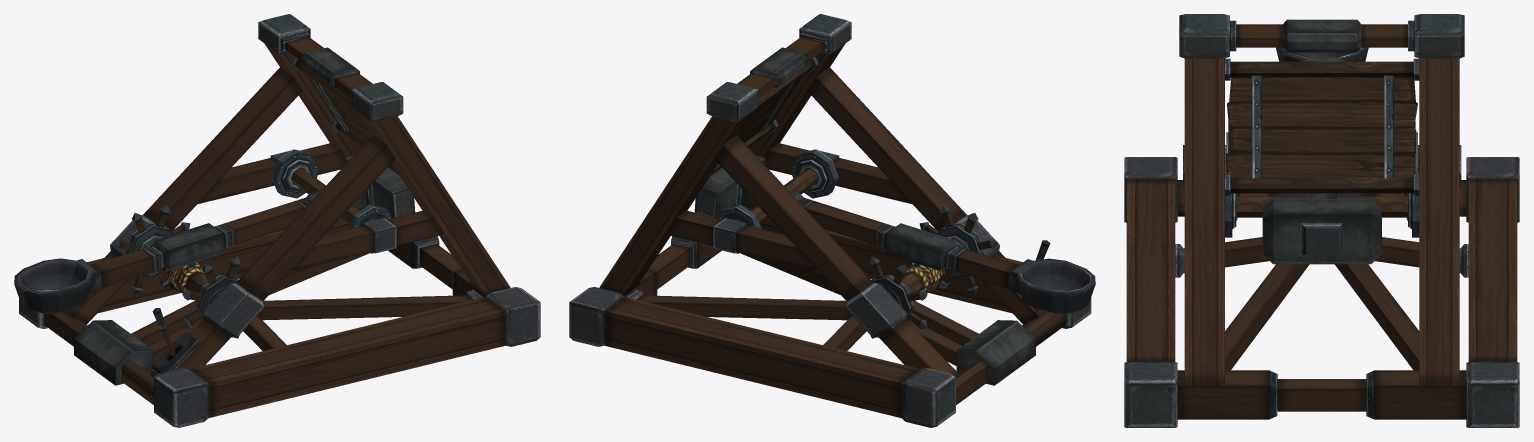
File: catapult_type4.FBX
The picture shows the model from 3 angles, left to right: view 1: azimuth 30°, elevation 25°; view 2: azimuth 150°, elevation 25°; view 3: azimuth 270°, elevation 25°; orthographic projection. The views are drawn at different scales.
Visible parts, largest first — view 1: catapult4_a, catapult4_b; view 2: catapult4_a, catapult4_b; view 3: catapult4_a, catapult4_b.
Boxes of the visible parts, left/top/right/bottom form: catapult4_a: left=19, top=14, right=540, bottom=427; catapult4_b: left=14, top=149, right=415, bottom=313; catapult4_a: left=569, top=14, right=1091, bottom=427; catapult4_b: left=694, top=149, right=1095, bottom=314; catapult4_a: left=1124, top=14, right=1519, bottom=427; catapult4_b: left=1225, top=47, right=1419, bottom=264.
Size of the model in its own units: 366 by 203 by 223.
